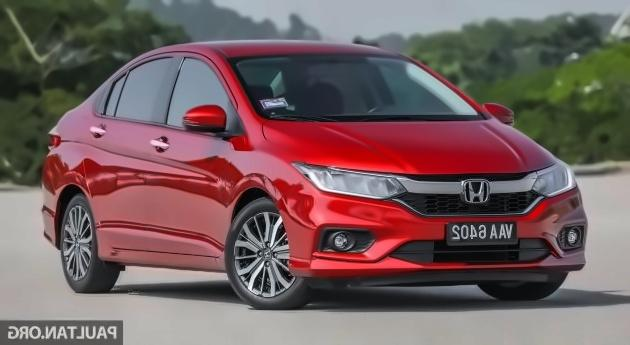Car hood: (259, 117, 561, 179)
Driver-s door - -F-R-: (151, 48, 229, 263)
Fender - -F-R-: (223, 116, 311, 265)
Fender - -R-R-: (51, 120, 101, 252)
Front bumper: (281, 183, 592, 279)
Headlight - -L-: (525, 158, 580, 198)
Headlight - -R-: (288, 158, 410, 202)
Passenger-s door - -R-R-: (85, 47, 166, 259)
Rear bumper: (30, 160, 63, 251)
Rear light - -R-: (39, 122, 68, 154)
Side bumper - -R-: (89, 243, 233, 276)
Side mirror - -L-: (478, 94, 524, 130)
Side mirror - -R-: (176, 99, 232, 140)
